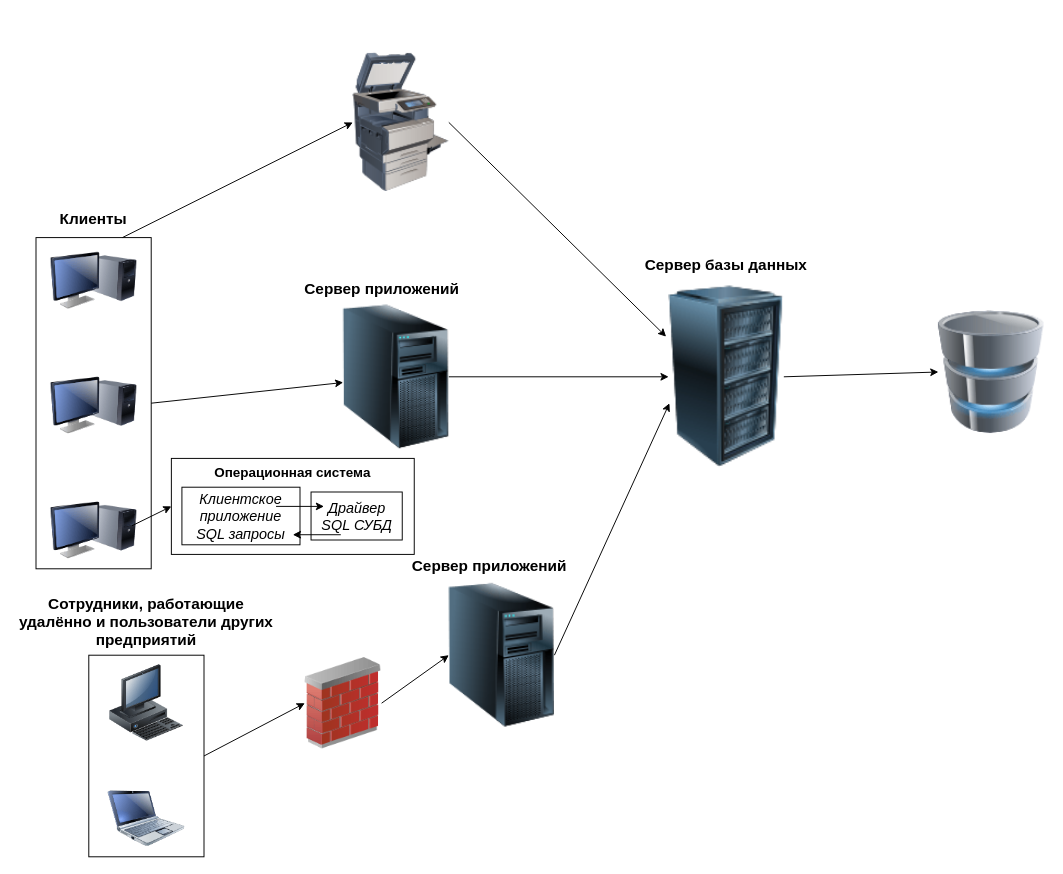
Some shapes in this 1063 by 874 pixel diagram are drawn without their labels. Here are the shapes that lost their labels. From the top down, the centre of each, then its label:
At (x=400, y=122): "Принт-сервер".
At (x=991, y=372): "База данных".
At (x=342, y=703): "Брандмауэр".
